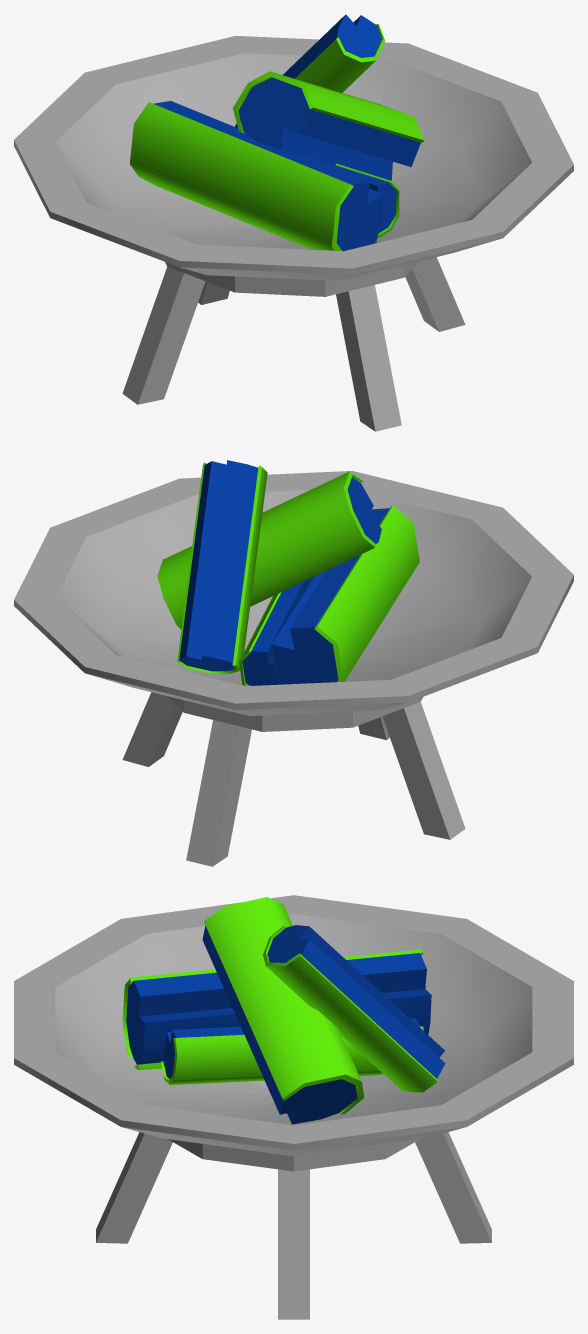
The model's file is Torch3.fbx.
3 views of the same model, one above another, from view 1: azimuth 30°, elevation 25°; view 2: azimuth 150°, elevation 25°; view 3: azimuth 270°, elevation 25° (orthographic). The views are drawn at different scales.
Visible parts, largest first — view 1: group60; view 2: group60; view 3: group60.
Part boxes in pixels (left/top/right/bottom): group60: left=14, top=14, right=573, bottom=431; group60: left=14, top=460, right=573, bottom=866; group60: left=14, top=895, right=573, bottom=1319.
Size of the model in its own units: 117 by 74.58 by 111.
